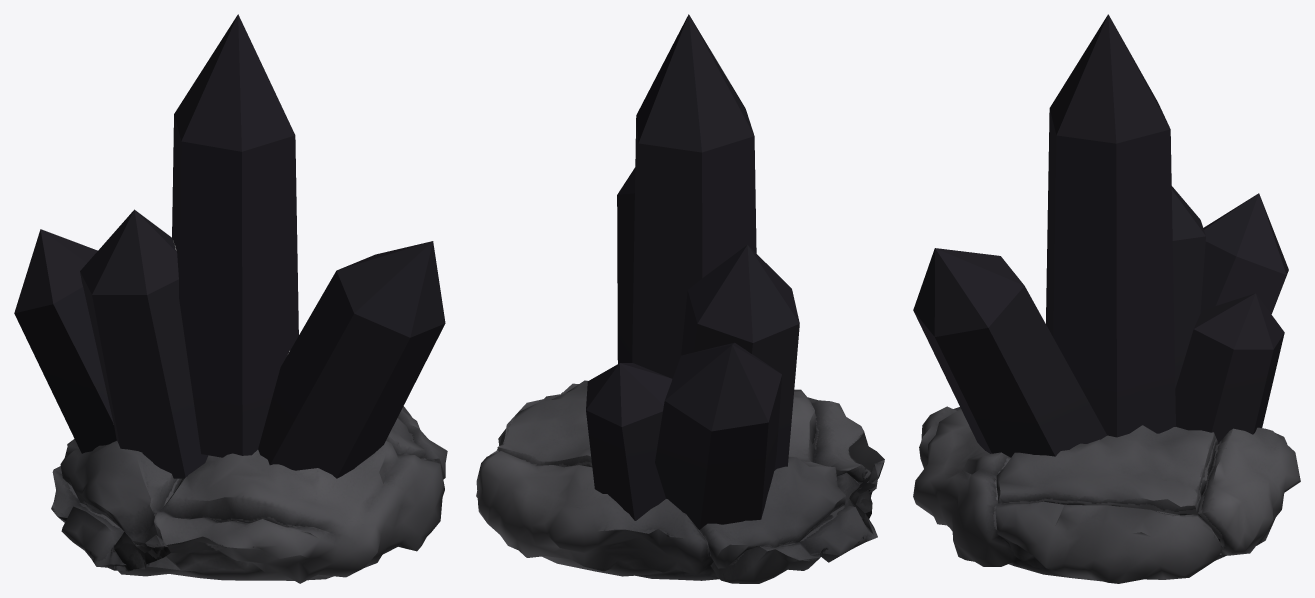
The model's file is cristal_fumario.fbx.
3 views of the same model, side by side, from view 1: azimuth 30°, elevation 25°; view 2: azimuth 150°, elevation 25°; view 3: azimuth 270°, elevation 25° (orthographic). The views are drawn at different scales.
Parts seen in each view (by area): view 1: cristal_fumario_cristal, cristal_fumario; view 2: cristal_fumario_cristal, cristal_fumario; view 3: cristal_fumario_cristal, cristal_fumario.
Part boxes in pixels (x1,y1,x2,y2): cristal_fumario_cristal: (14, 14, 445, 478); cristal_fumario: (51, 406, 447, 583); cristal_fumario_cristal: (586, 14, 799, 529); cristal_fumario: (476, 380, 884, 583); cristal_fumario_cristal: (913, 14, 1288, 457); cristal_fumario: (913, 406, 1300, 583).
Bounding box in the file's own units: 2.07 × 2.9 × 2.04.
Materials: 3 (3 with a texture image).
